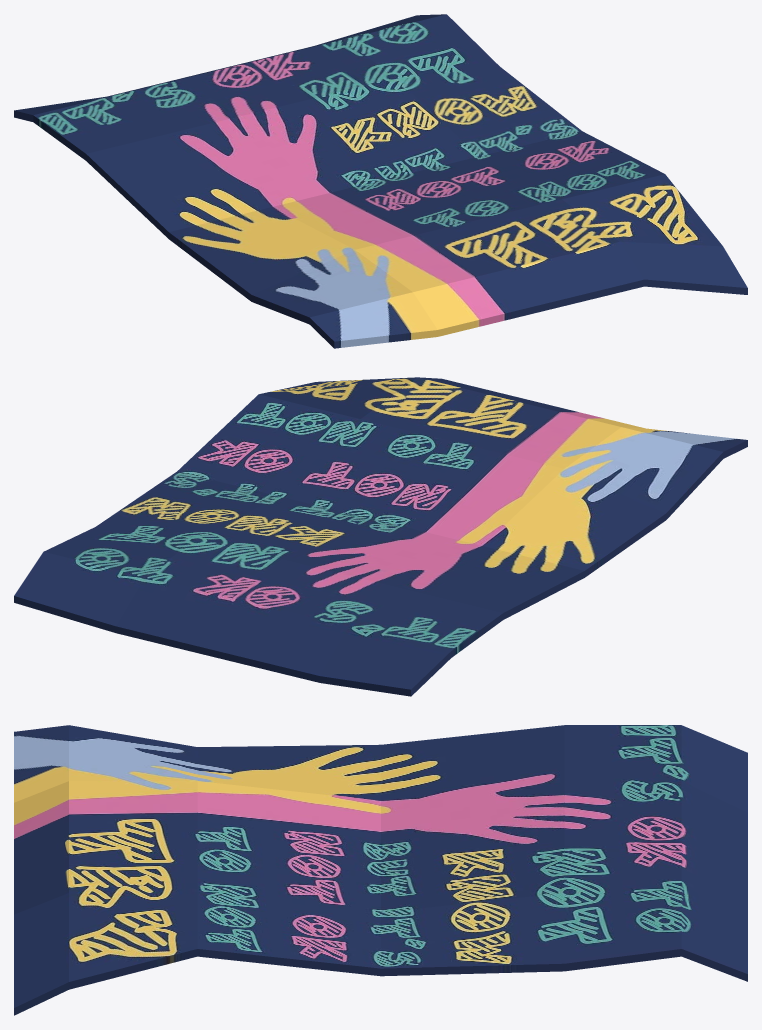
Rendered from poster2.fbx.
3 renders of one model, top to bottom at view 1: azimuth 30°, elevation 25°; view 2: azimuth 150°, elevation 25°; view 3: azimuth 270°, elevation 25°, orthographic. The views are drawn at different scales.
Visible parts, largest first — view 1: Plane; view 2: Plane; view 3: Plane.
Part boxes in pixels (box(x1,y1,x2,y2)): Plane: box(14, 14, 747, 348); Plane: box(14, 377, 747, 696); Plane: box(14, 725, 747, 1015).
Size of the model in its own units: 189 by 26.4 by 262.
1 material, 1 textured.
